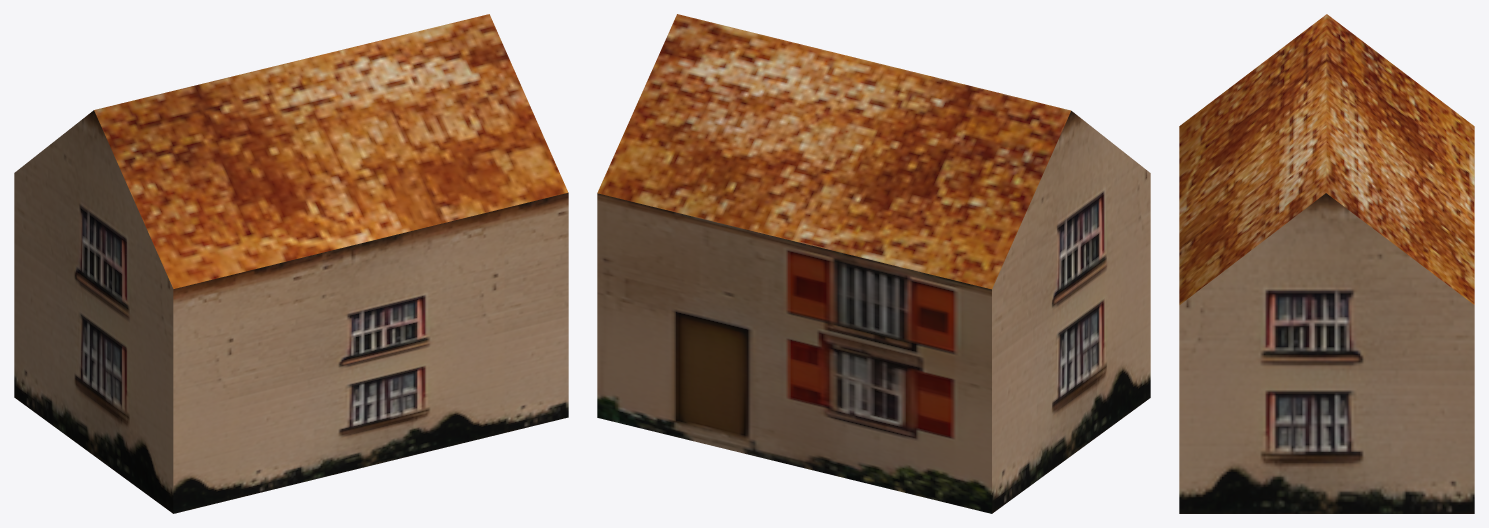
The model's file is typicalvillahouse.gltf.
3 renders of one model, left to right at view 1: azimuth 30°, elevation 25°; view 2: azimuth 150°, elevation 25°; view 3: azimuth 270°, elevation 25°, orthographic. The views are drawn at different scales.
Visible parts, largest first — view 1: typicalvillahouse_atomic0; view 2: typicalvillahouse_atomic0; view 3: typicalvillahouse_atomic0.
Boxes of the visible parts, x1,y1,x2,y2 form: typicalvillahouse_atomic0: [14, 14, 568, 513]; typicalvillahouse_atomic0: [597, 14, 1150, 513]; typicalvillahouse_atomic0: [1179, 14, 1474, 513].
Size of the model in its own units: 18.93 by 15.83 by 13.2.
Materials: 3 (3 with a texture image).
